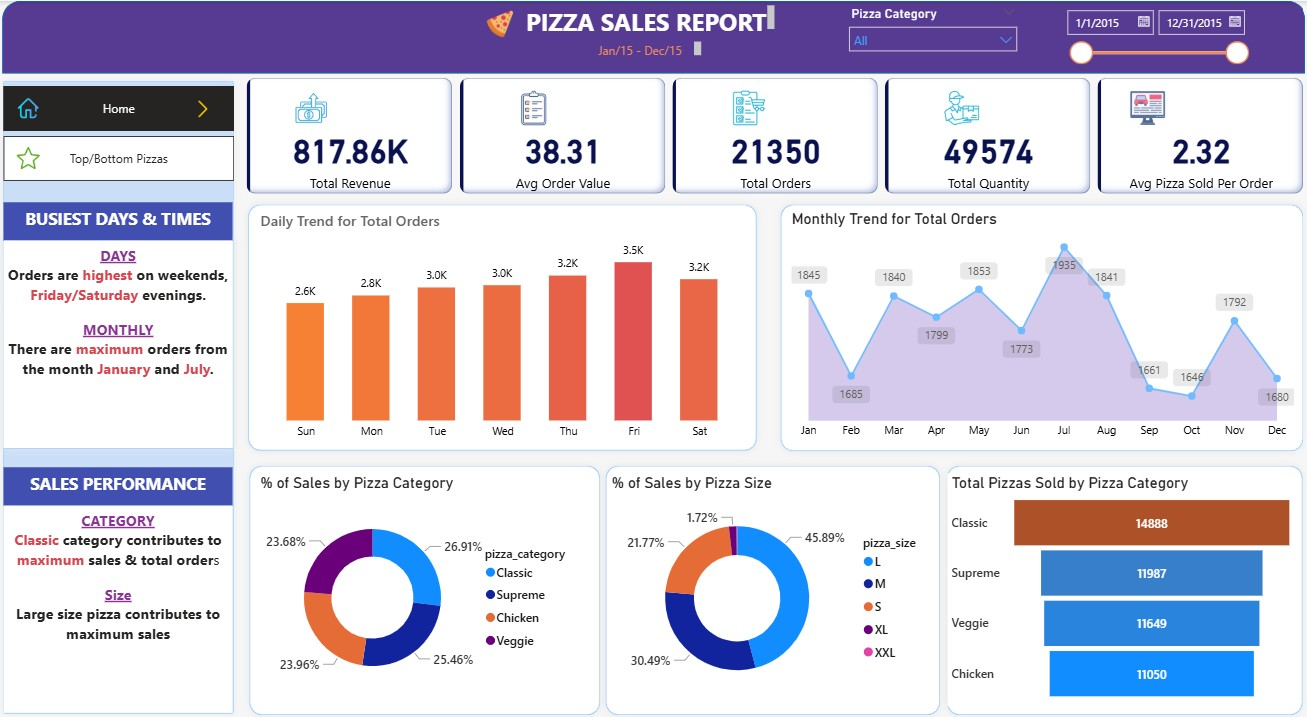

The dashboard page shown, as its layout file describes it:
{"tool":"powerbi","page":{"name":"Home","canvas":[1500,820],"ordinal":0},"visuals":[{"type":"shape","box":[22.3,80.8,273,721.4],"z":0},{"type":"textbox","box":[31.2,223.8,255,42.5],"z":0,"group":"g4"},{"type":"textbox","box":[31.3,519,255,42.5],"z":0,"group":"g5"},{"type":"cardVisual","fields":{"Data":["pizza_sales_db pizza_sales.Total Revenue","pizza_sales_db pizza_sales.Avg Order Value","pizza_sales_db pizza_sales.Total Orders","pizza_sales_db pizza_sales.Total Quantity","pizza_sales_db pizza_sales.Avg Pizza Sold Per Order"]},"box":[296.6,80.8,1190.7,139.3],"z":1000},{"type":"textbox","box":[30.9,266.4,255.5,230],"z":1000,"group":"g4"},{"type":"textbox","box":[31,561.6,255.5,230],"z":1000,"group":"g5"},{"type":"shape","box":[29.2,0,1452.6,80.8],"z":2000},{"type":"textbox","box":[607.5,0,287.5,40],"z":3000},{"type":"textbox","box":[687.5,40,125,25],"z":4000},{"type":"image","box":[560,6.2,47.5,40],"z":5000},{"type":"shape","box":[295.9,218,582.6,290.4],"z":5000,"group":"g1"},{"type":"shape","box":[888.5,218.6,598.2,290.9],"z":5000,"group":"g2"},{"type":"columnChart","title":"Daily Trend for Total Orders","fields":{"Category":["pizza_sales_db pizza_sales.Order Day"],"Y":["pizza_sales_db pizza_sales.Total Orders"]},"box":[312.4,231.9,550.8,265],"z":6000,"group":"g1"},{"type":"shape","box":[22.6,255.2,272.6,252.2],"z":6000},{"type":"areaChart","title":"Monthly Trend for Total Orders","fields":{"Category":["pizza_sales_db pizza_sales.Order Month"],"Y":["pizza_sales_db pizza_sales.Total Orders"]},"box":[904,232.8,569.8,264.2],"z":6002,"group":"g2"},{"type":"group","id":"g1","title":"Group 1","box":[295.9,218,582.1,291.1],"z":7000},{"type":"shape","box":[297.3,509.1,406.7,293.9],"z":8000},{"type":"group","id":"g2","title":"Group 1","box":[888.5,218.6,597.5,291.1],"z":9000},{"type":"shape","box":[694.2,509.1,388.6,293.9],"z":10000},{"type":"shape","box":[1074.4,509.1,412.2,293.9],"z":11000},{"type":"donutChart","title":"% of Sales by Pizza Category","fields":{"Category":["pizza_sales_db pizza_sales.pizza_category"],"Y":["pizza_sales_db pizza_sales.Total Revenue"]},"box":[312.6,525.8,371.8,257.6],"z":12000},{"type":"donutChart","title":"% of Sales by Pizza Size","fields":{"Y":["pizza_sales_db pizza_sales.Total Revenue"],"Category":["pizza_sales_db pizza_sales.pizza_size"]},"box":[704,525.8,371.8,259],"z":13000},{"type":"funnel","title":"Total Pizzas Sold by Pizza Category","fields":{"Category":["pizza_sales_db pizza_sales.pizza_category"],"Y":["pizza_sales_db pizza_sales.Total Quantity"]},"box":[1082.8,525.8,391.3,259],"z":14000},{"type":"group","id":"g3","title":"Group 2","box":[30.9,223.8,255.5,272.6],"z":15000},{"type":"group","id":"g4","title":"Group 3","box":[30.9,223.8,255.5,272.6],"z":15001,"group":"g3"},{"type":"group","id":"g5","title":"Group 3","box":[31,519,255,273],"z":16000},{"type":"slicer","fields":{"Values":["pizza_sales_db pizza_sales.pizza_category"]},"box":[962.2,0,207.8,65.6],"z":17000},{"type":"slicer","fields":{"Values":["pizza_sales_db pizza_sales.order_date"]},"box":[1203.3,0,223.3,88.9],"z":18000},{"type":"pageNavigator","box":[30.9,94.6,257.4,50],"z":18001},{"type":"pageNavigator","box":[31.1,150.1,257.3,50],"z":18002},{"type":"image","box":[231.1,105.6,43.3,28.9],"z":18003},{"type":"image","box":[31.1,103.3,54.4,33.3],"z":18004},{"type":"image","box":[33.3,157.2,50,35.6],"z":18005}]}

Visuals, with their boxes in screenshot pixels (x1, y1, x2, y2), scaled from the page's 1500x820 canvas onto the 1307x717 screenshot:
shape: locate(19, 71, 257, 701)
textbox: locate(27, 196, 249, 233)
textbox: locate(27, 454, 249, 491)
cardVisual - pizza_sales_db pizza_sales.Total Revenue x pizza_sales_db pizza_sales.Avg Order Value: locate(258, 71, 1296, 192)
textbox: locate(27, 233, 250, 434)
textbox: locate(27, 491, 250, 692)
shape: locate(25, 0, 1291, 71)
textbox: locate(529, 0, 780, 35)
textbox: locate(599, 35, 708, 57)
image: locate(488, 5, 529, 40)
shape: locate(258, 191, 765, 445)
shape: locate(774, 191, 1295, 446)
"Daily Trend for Total Orders" columnChart: locate(272, 203, 752, 434)
shape: locate(20, 223, 257, 444)
"Monthly Trend for Total Orders" areaChart: locate(788, 204, 1284, 435)
"Group 1" group: locate(258, 191, 765, 445)
shape: locate(259, 445, 613, 702)
"Group 1" group: locate(774, 191, 1295, 446)
shape: locate(605, 445, 943, 702)
shape: locate(936, 445, 1295, 702)
"% of Sales by Pizza Category" donutChart: locate(272, 460, 596, 685)
"% of Sales by Pizza Size" donutChart: locate(613, 460, 937, 686)
"Total Pizzas Sold by Pizza Category" funnel: locate(943, 460, 1284, 686)
"Group 2" group: locate(27, 196, 250, 434)
"Group 3" group: locate(27, 196, 250, 434)
"Group 3" group: locate(27, 454, 249, 693)
slicer - pizza_sales_db pizza_sales.pizza_category: locate(838, 0, 1019, 57)
slicer - pizza_sales_db pizza_sales.order_date: locate(1048, 0, 1243, 78)
pageNavigator: locate(27, 83, 251, 126)
pageNavigator: locate(27, 131, 251, 175)
image: locate(201, 92, 239, 118)
image: locate(27, 90, 74, 119)
image: locate(29, 137, 73, 169)
